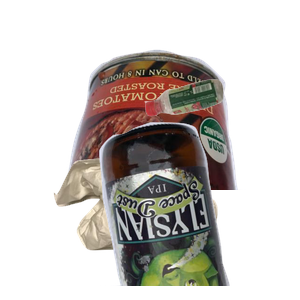glass: (97, 120, 300, 300)
metal: (62, 47, 300, 227)
plastic: (142, 77, 300, 186)
trash: (51, 155, 261, 300)
